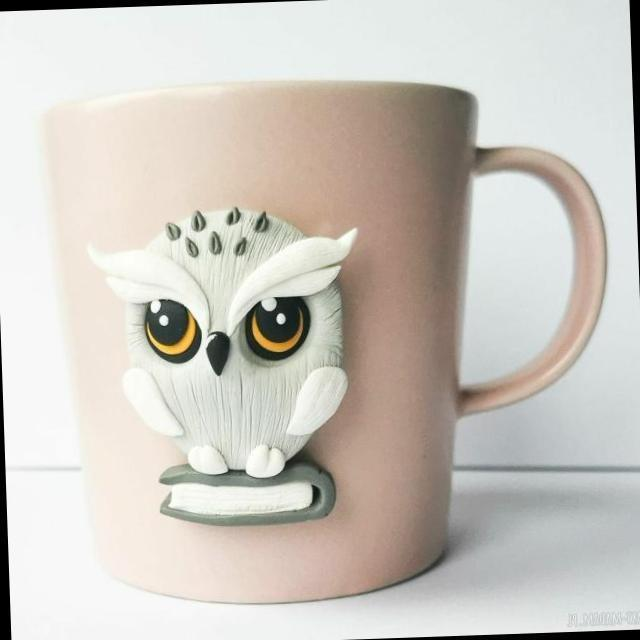taza: (26, 64, 614, 609)
